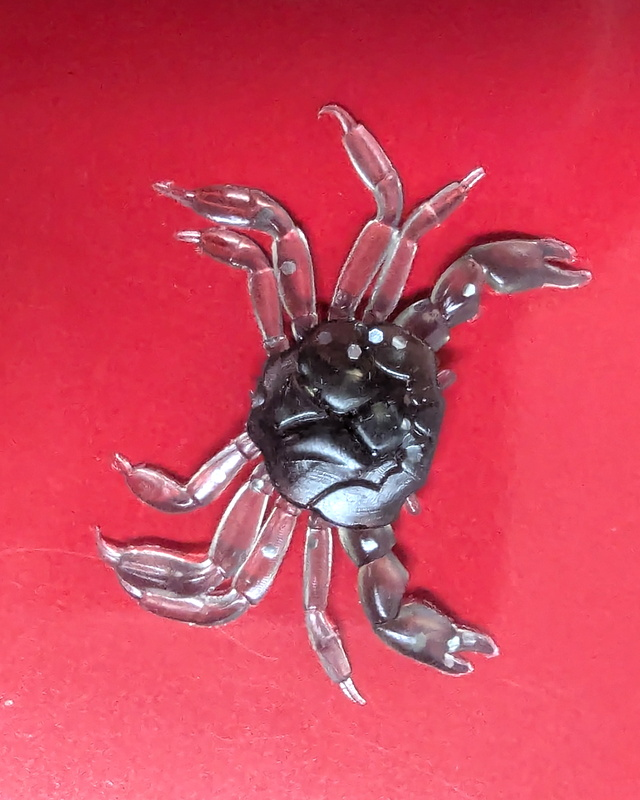crab1: (90, 100, 592, 710)
